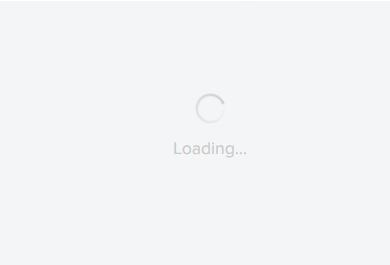0-Loading: (166, 85, 256, 167)
